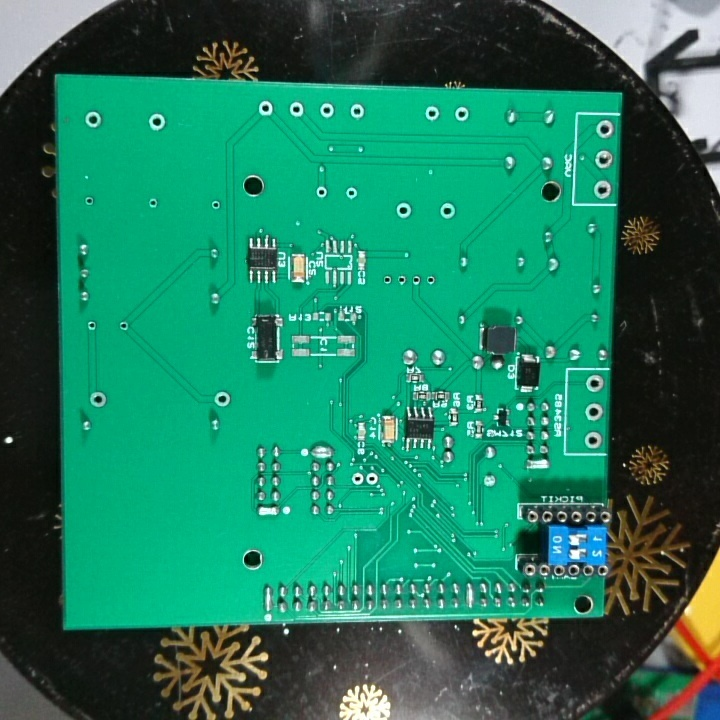F: (145, 109, 168, 136), (593, 117, 616, 143), (591, 177, 614, 203), (583, 373, 607, 397), (211, 387, 234, 412), (87, 387, 110, 412), (593, 147, 615, 173), (580, 429, 605, 451), (581, 401, 605, 423), (255, 96, 276, 121), (393, 200, 416, 222), (82, 109, 104, 131), (437, 201, 459, 223), (347, 100, 366, 125), (318, 100, 339, 122), (287, 99, 307, 121), (421, 103, 441, 125), (452, 104, 471, 126), (348, 470, 366, 492), (113, 316, 133, 335), (481, 470, 499, 491), (342, 184, 360, 203), (364, 470, 381, 489), (312, 183, 331, 200), (81, 192, 99, 209), (84, 318, 100, 336), (207, 197, 224, 213), (423, 272, 439, 289), (380, 272, 396, 289), (145, 194, 160, 212), (396, 272, 409, 288), (410, 273, 421, 286)
P: (310, 443, 336, 460), (524, 457, 553, 472), (253, 505, 280, 520), (261, 583, 274, 613), (463, 581, 475, 610)
